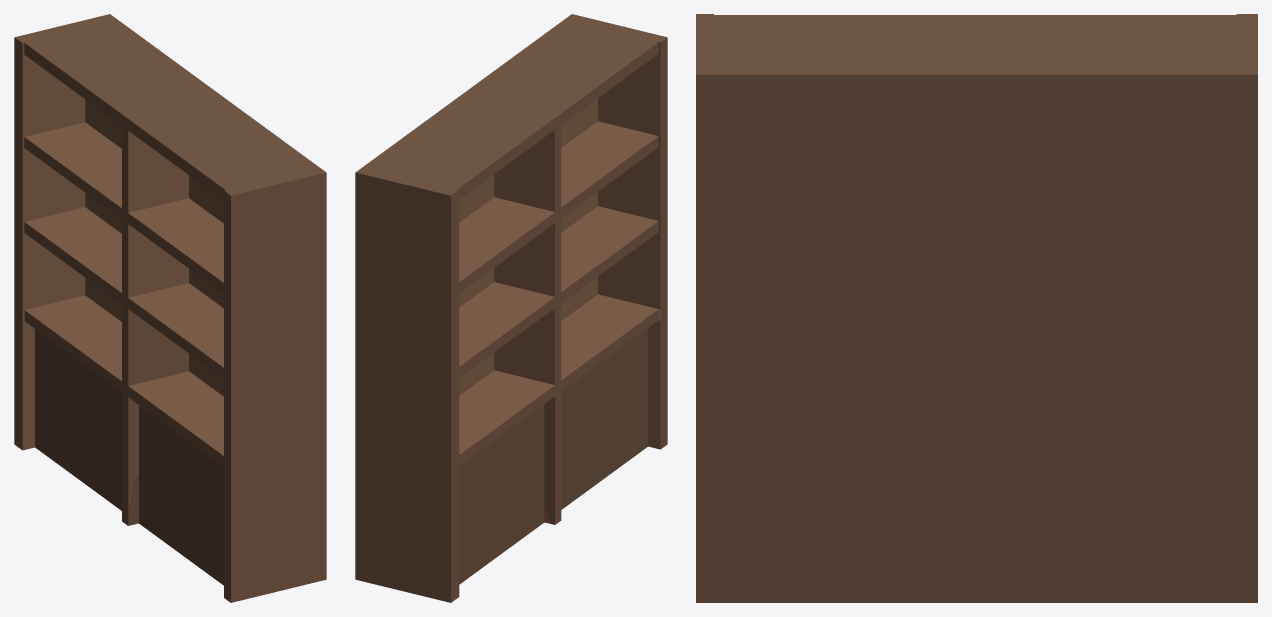
Rendered from Cabinet.fbx.
3 views of the same model, side by side, from view 1: azimuth 30°, elevation 25°; view 2: azimuth 150°, elevation 25°; view 3: azimuth 270°, elevation 25° (orthographic). The views are drawn at different scales.
Visible parts, largest first — view 1: Box140; view 2: Box140; view 3: Box140.
Part boxes in pixels (x1,y1,x2,y2): Box140: (14,14,326,602); Box140: (355,14,667,602); Box140: (696,14,1257,602).
Size of the model in its own units: 89.98 by 366 by 353.
1 material, 1 textured.
